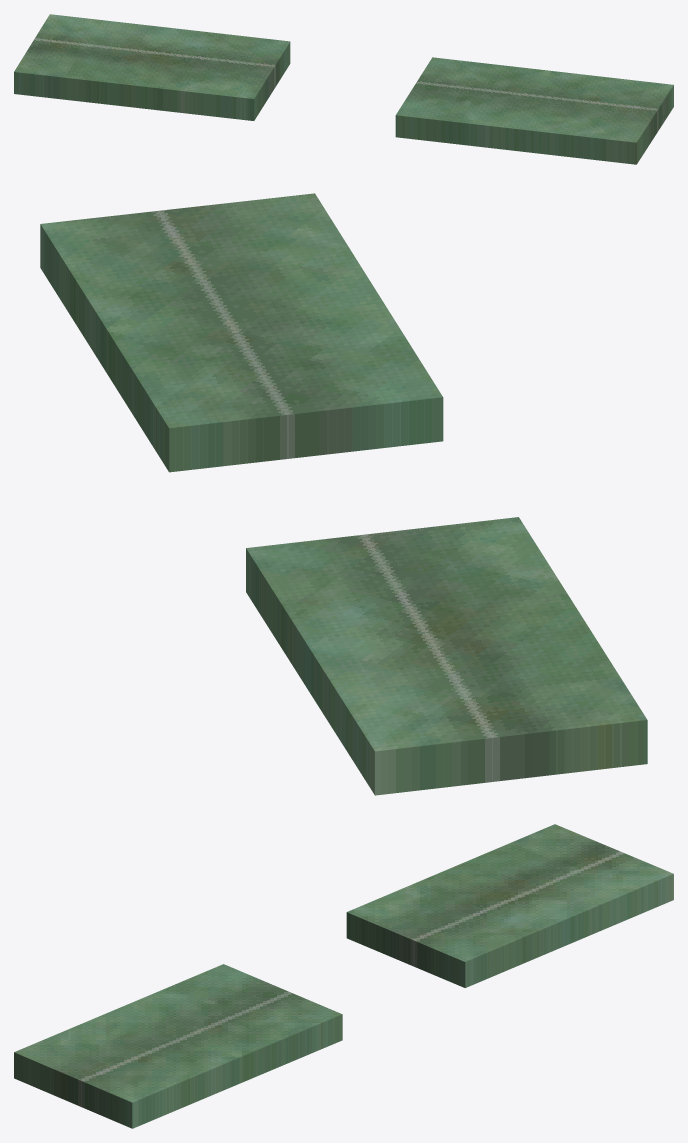
The model's file is tabletop inner circle plates1.glb.
The picture shows the model from 3 angles, top to bottom: view 1: azimuth 30°, elevation 25°; view 2: azimuth 150°, elevation 25°; view 3: azimuth 270°, elevation 25°; orthographic projection. The views are drawn at different scales.
Parts seen in each view (by area): view 1: tabletop inner padding_002, tabletop inner padding_003; view 2: tabletop inner padding_002, tabletop inner padding_003; view 3: tabletop inner padding_002, tabletop inner padding_003.
Boxes of the visible parts, bbox=[...] form: tabletop inner padding_002: bbox=[395, 57, 673, 164]; tabletop inner padding_003: bbox=[14, 14, 290, 120]; tabletop inner padding_002: bbox=[40, 193, 443, 472]; tabletop inner padding_003: bbox=[246, 517, 647, 795]; tabletop inner padding_002: bbox=[14, 964, 342, 1128]; tabletop inner padding_003: bbox=[346, 824, 673, 987].
Size of the model in its own units: 4.27 by 0.1869 by 4.28.
Materials: 1 (1 with a texture image).
